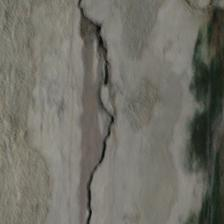Crack: (39, 2, 79, 221)
